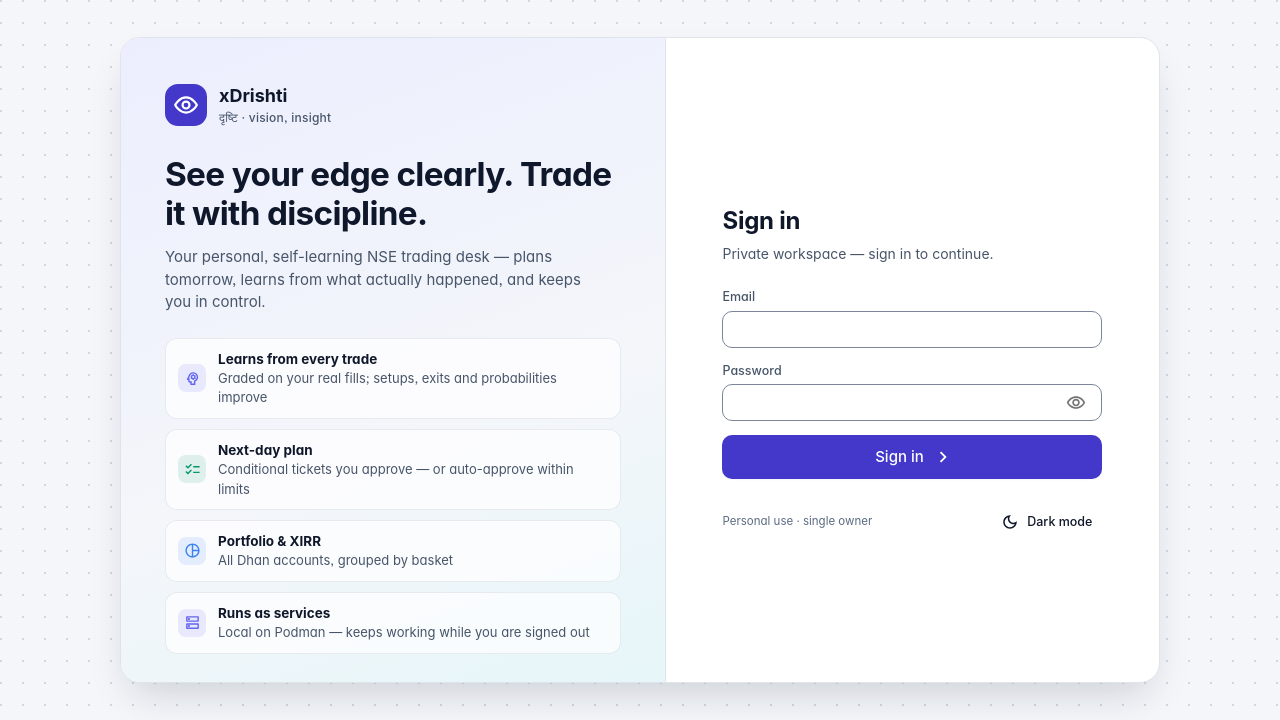
it: sign-in page layout › links each field to its label and an error to its input
Click the button "Sign in" at x=912, y=457, box 722,435 -> 1102,479
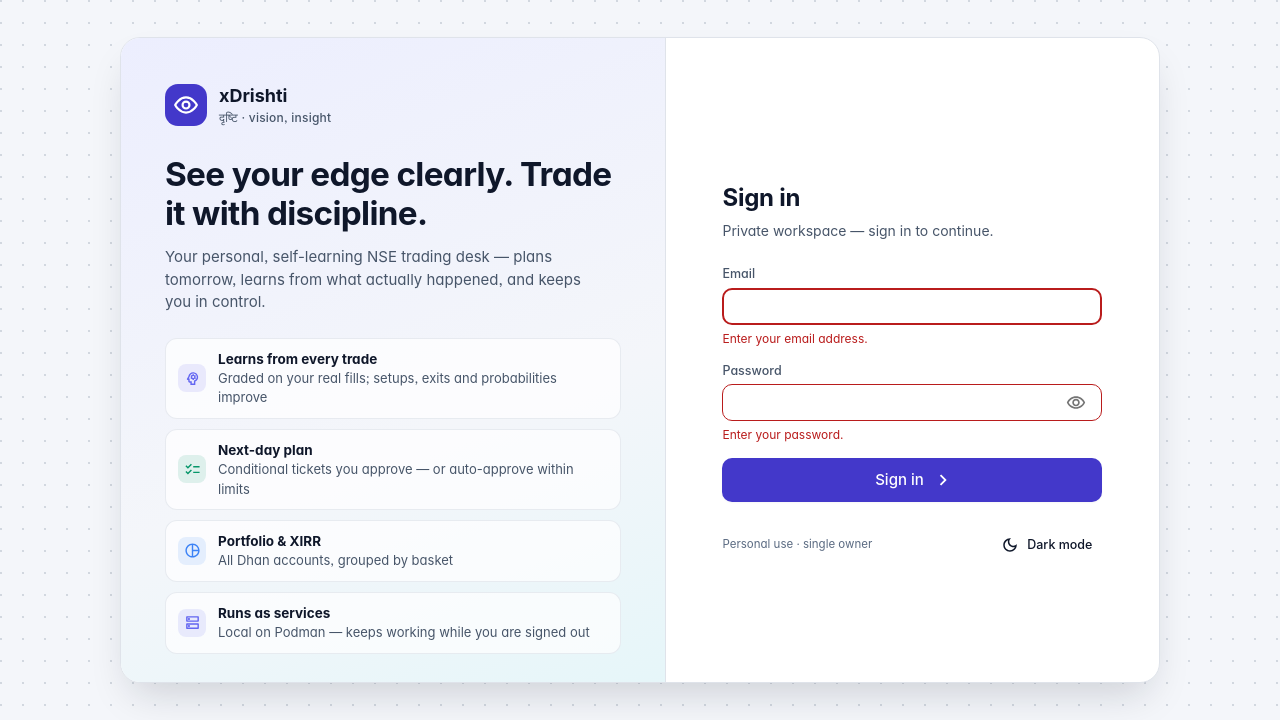
Now the text "Enter your email address." is shown, box 722,330 -> 868,346
